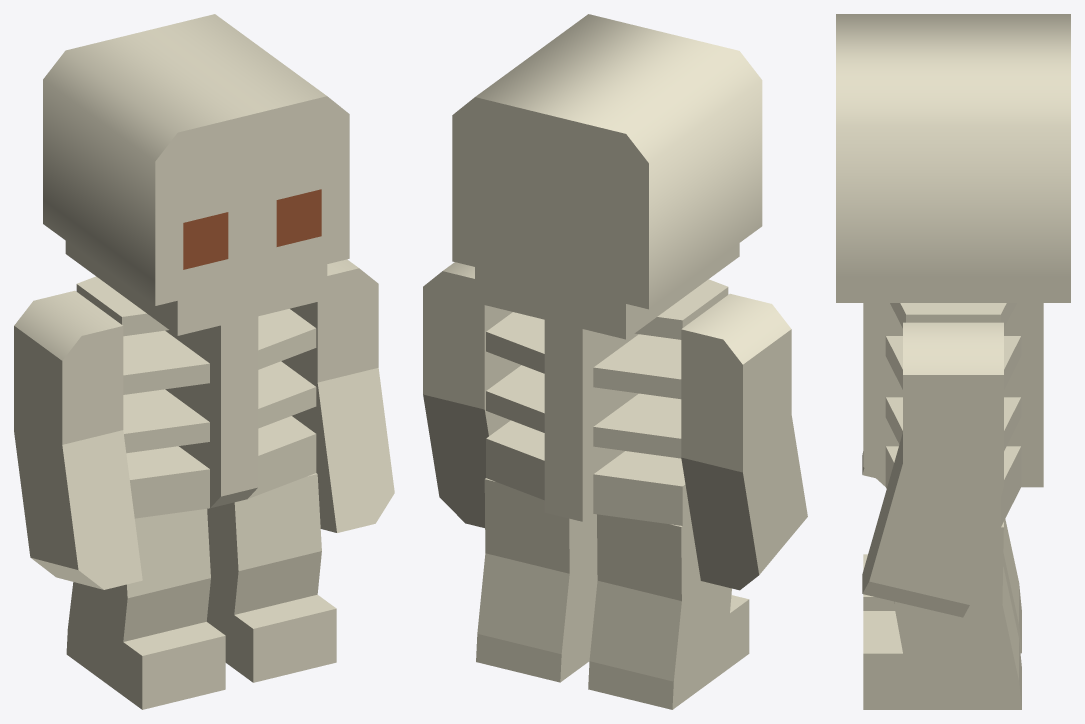
The model's file is characterSkeleton.fbx.
3 views of the same model, side by side, from view 1: azimuth 30°, elevation 25°; view 2: azimuth 150°, elevation 25°; view 3: azimuth 270°, elevation 25° (orthographic). The views are drawn at different scales.
Parts seen in each view (by area): view 1: head, body, armRight, legRight, legLeft, armLeft; view 2: head, body, armRight, legRight, legLeft, armLeft; view 3: head, armLeft, legLeft, body, legRight.
Part boxes in pixels (x1,y1,x2,y2): head: (43, 14, 349, 335); body: (76, 276, 316, 518); armRight: (14, 290, 142, 589); legRight: (66, 509, 225, 709); legLeft: (206, 473, 336, 682); armLeft: (281, 259, 394, 532); head: (452, 14, 762, 339); body: (486, 279, 728, 525); armRight: (681, 293, 807, 590); legRight: (588, 514, 749, 709); legLeft: (476, 478, 597, 682); armLeft: (423, 262, 521, 527); head: (836, 14, 1070, 302); armLeft: (862, 322, 1003, 617); legLeft: (863, 522, 1021, 709); body: (863, 303, 1043, 527); legRight: (863, 519, 1021, 653).
Size of the model in its own units: 4.23 by 7.43 by 2.6.
